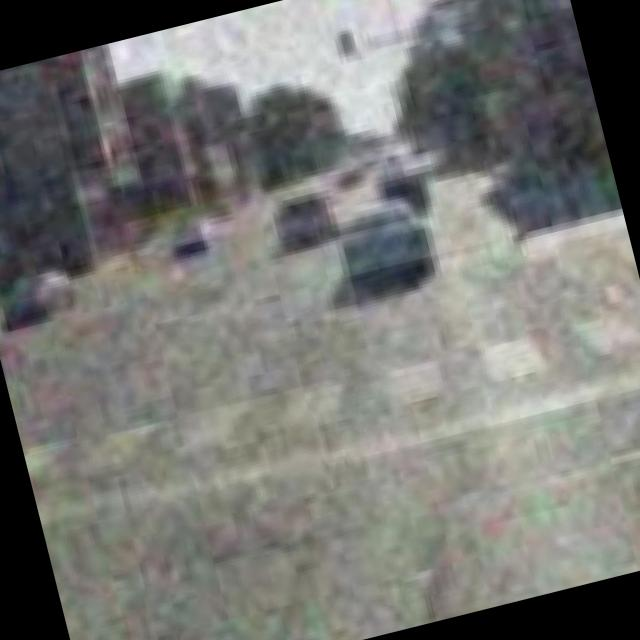zebra: (15, 265, 640, 534)
